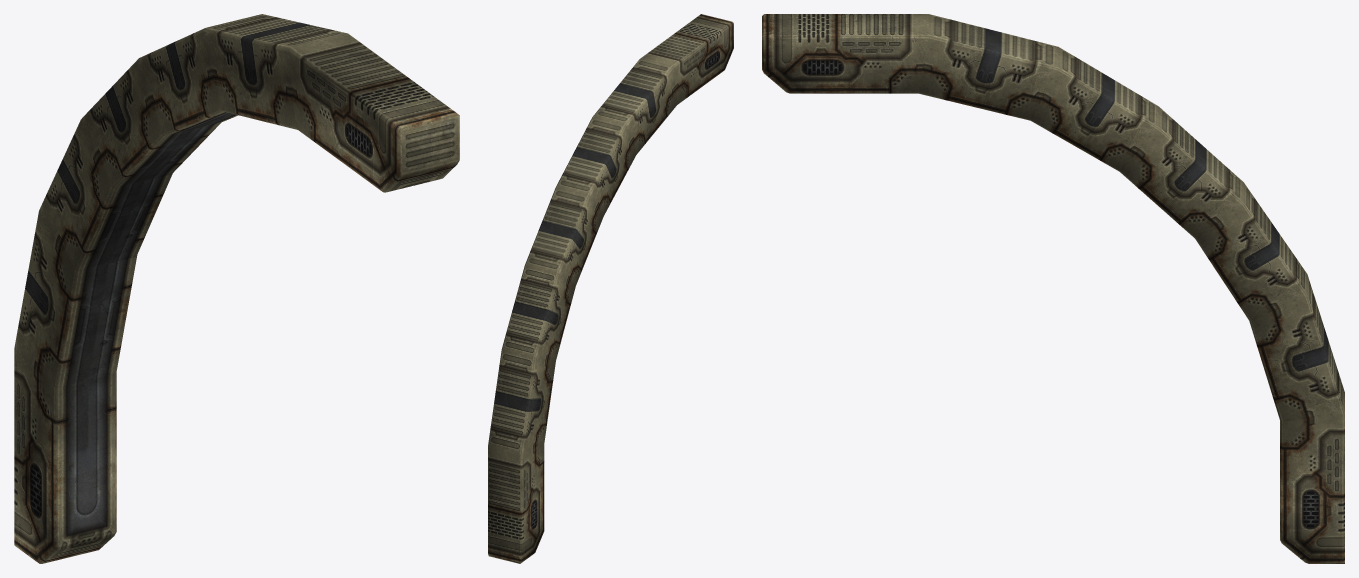
Rendered from arch_wallmounted.dae.
3 renders of one model, left to right at view 1: azimuth 30°, elevation 25°; view 2: azimuth 150°, elevation 25°; view 3: azimuth 270°, elevation 25°, orthographic. The views are drawn at different scales.
Visible parts, largest first — view 1: polySurface4; view 2: polySurface4; view 3: polySurface4.
Boxes of the visible parts, bbox=[...] form: polySurface4: bbox=[14, 14, 459, 563]; polySurface4: bbox=[488, 14, 733, 563]; polySurface4: bbox=[762, 14, 1344, 563].
Size of the model in its own units: 0.78 by 8.44 by 8.43.
1 material, 1 textured.
